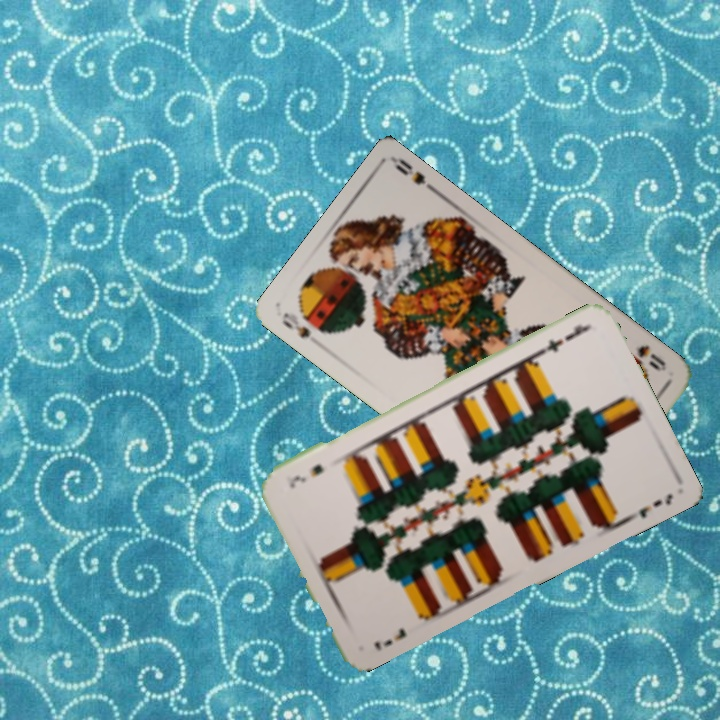E7: (536, 320, 592, 356), (370, 624, 409, 653)
SO: (633, 340, 669, 374), (277, 308, 313, 341)
